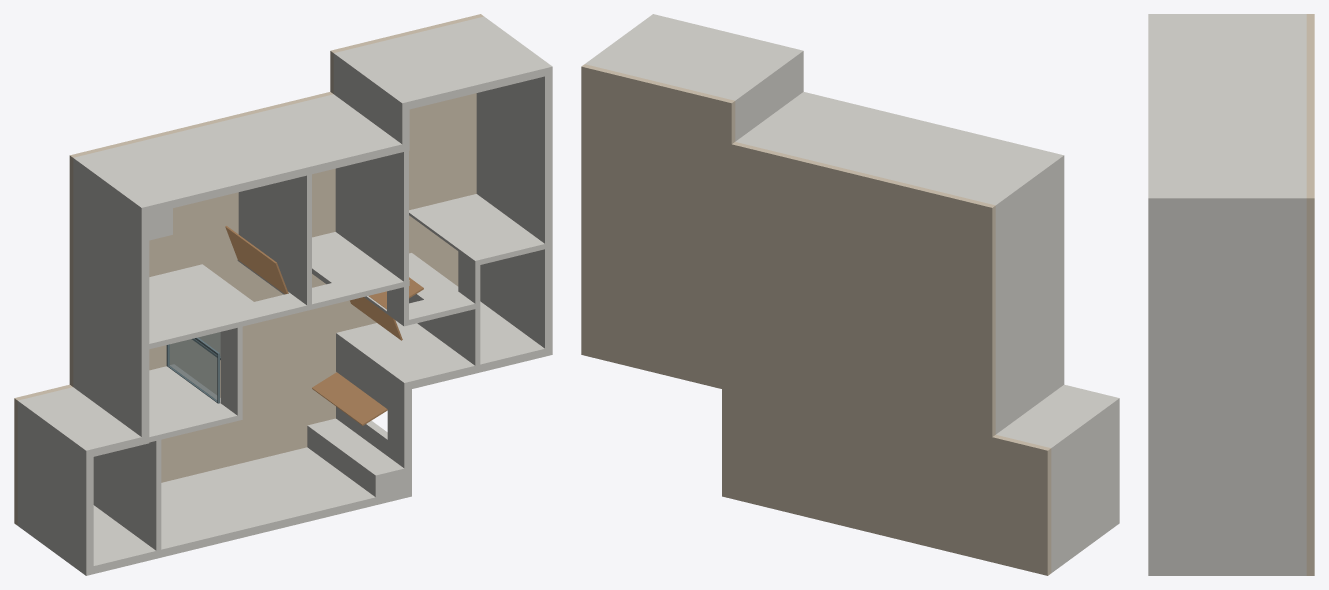
Rendered from floorplan.obj.
3 views of the same model, side by side, from view 1: azimuth 30°, elevation 25°; view 2: azimuth 150°, elevation 25°; view 3: azimuth 270°, elevation 25° (orthographic). The views are drawn at different scales.
Visible parts, largest first — view 1: wall_shell, floor_slab, glass_sliding_1, door_entry, door_north_left, door_east_small_room; view 2: floor_slab, wall_shell; view 3: wall_shell, floor_slab.
Part boxes in pixels (x1,y1,x2,y2): wall_shell: (17, 16, 552, 575); floor_slab: (14, 14, 483, 525); glass_sliding_1: (168, 338, 217, 400); door_entry: (312, 372, 387, 425); door_north_left: (225, 226, 288, 294); door_east_small_room: (350, 297, 402, 340); floor_slab: (581, 64, 1051, 575); wall_shell: (585, 14, 1119, 572); wall_shell: (1148, 14, 1306, 575); floor_slab: (1306, 14, 1314, 575).
Size of the model in its own units: 11.02 by 8.93 by 2.94.
